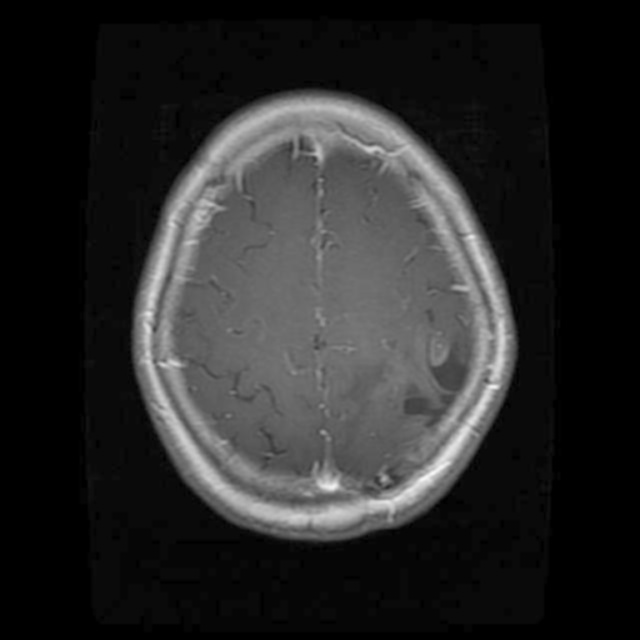pituitary tumor: (402, 329, 462, 410)
